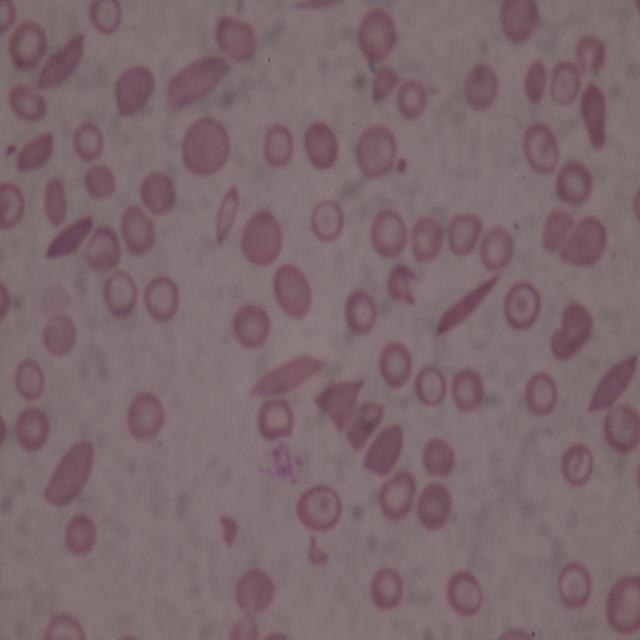Crystal: (580, 78, 606, 150)
Normal: (8, 18, 47, 71), (370, 207, 408, 258), (379, 467, 414, 522), (447, 570, 486, 617), (234, 302, 272, 350), (557, 157, 594, 206), (130, 389, 164, 440), (145, 277, 180, 325), (104, 269, 138, 318), (343, 290, 378, 336), (478, 227, 515, 270), (368, 566, 404, 610), (381, 341, 412, 390), (526, 369, 557, 418), (416, 364, 448, 407), (15, 409, 50, 448), (452, 369, 483, 412), (264, 122, 292, 167), (74, 120, 105, 160), (41, 615, 90, 640), (396, 78, 424, 118), (88, 0, 122, 32)
Others: (42, 439, 98, 508), (182, 115, 232, 177), (317, 376, 368, 434), (240, 209, 283, 267), (559, 215, 607, 265), (356, 122, 397, 180), (550, 304, 593, 358), (361, 423, 405, 475), (358, 7, 398, 62), (604, 572, 640, 632), (114, 66, 155, 118), (274, 264, 312, 319), (346, 401, 386, 452), (217, 16, 257, 65), (499, 0, 542, 44), (303, 121, 340, 172), (524, 119, 560, 171), (417, 484, 455, 533), (120, 204, 155, 256), (409, 213, 442, 264), (444, 212, 482, 256), (603, 406, 638, 453), (257, 398, 296, 440), (85, 227, 121, 272), (237, 568, 273, 613), (548, 62, 583, 108), (9, 84, 48, 124), (466, 66, 499, 112), (557, 565, 594, 605), (541, 206, 573, 252), (42, 314, 76, 357), (141, 172, 175, 214), (13, 358, 46, 401), (64, 512, 98, 552), (422, 439, 456, 478), (564, 440, 593, 484), (576, 35, 607, 75), (41, 176, 67, 223), (372, 65, 399, 108), (524, 60, 547, 106), (1, 183, 25, 227), (388, 262, 412, 306), (85, 163, 115, 197), (230, 613, 263, 636), (0, 3, 16, 35), (497, 627, 532, 639), (0, 281, 11, 316)
Sickle: (430, 268, 505, 340), (245, 352, 328, 399), (33, 28, 88, 94), (585, 349, 639, 416), (163, 55, 229, 108), (43, 213, 94, 263), (213, 183, 241, 247), (16, 131, 54, 175), (291, 0, 348, 12)
Target: (296, 483, 342, 533), (502, 282, 542, 332), (310, 198, 343, 241)
